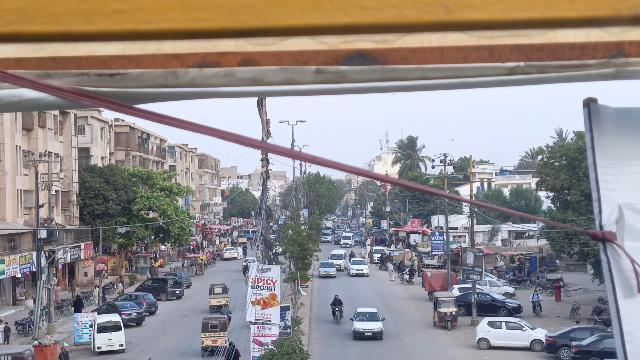Bike: (567, 298, 581, 323), (331, 304, 344, 325), (530, 299, 544, 318), (400, 273, 416, 286)
Car: (475, 315, 547, 351), (543, 326, 604, 358), (454, 291, 524, 317), (92, 300, 145, 327), (570, 333, 617, 360), (349, 307, 387, 340), (135, 277, 185, 302), (115, 291, 158, 314), (348, 257, 372, 278), (316, 261, 338, 279)
Person: (71, 294, 84, 314), (57, 344, 71, 360), (2, 321, 11, 345), (530, 289, 543, 302), (387, 261, 395, 282), (330, 294, 344, 306), (235, 243, 243, 259), (242, 242, 249, 257), (409, 264, 416, 275), (404, 265, 410, 274)
Rickshaw: (199, 316, 230, 354), (432, 290, 460, 331), (208, 281, 229, 314)
Van: (90, 312, 128, 355), (329, 249, 347, 273)
